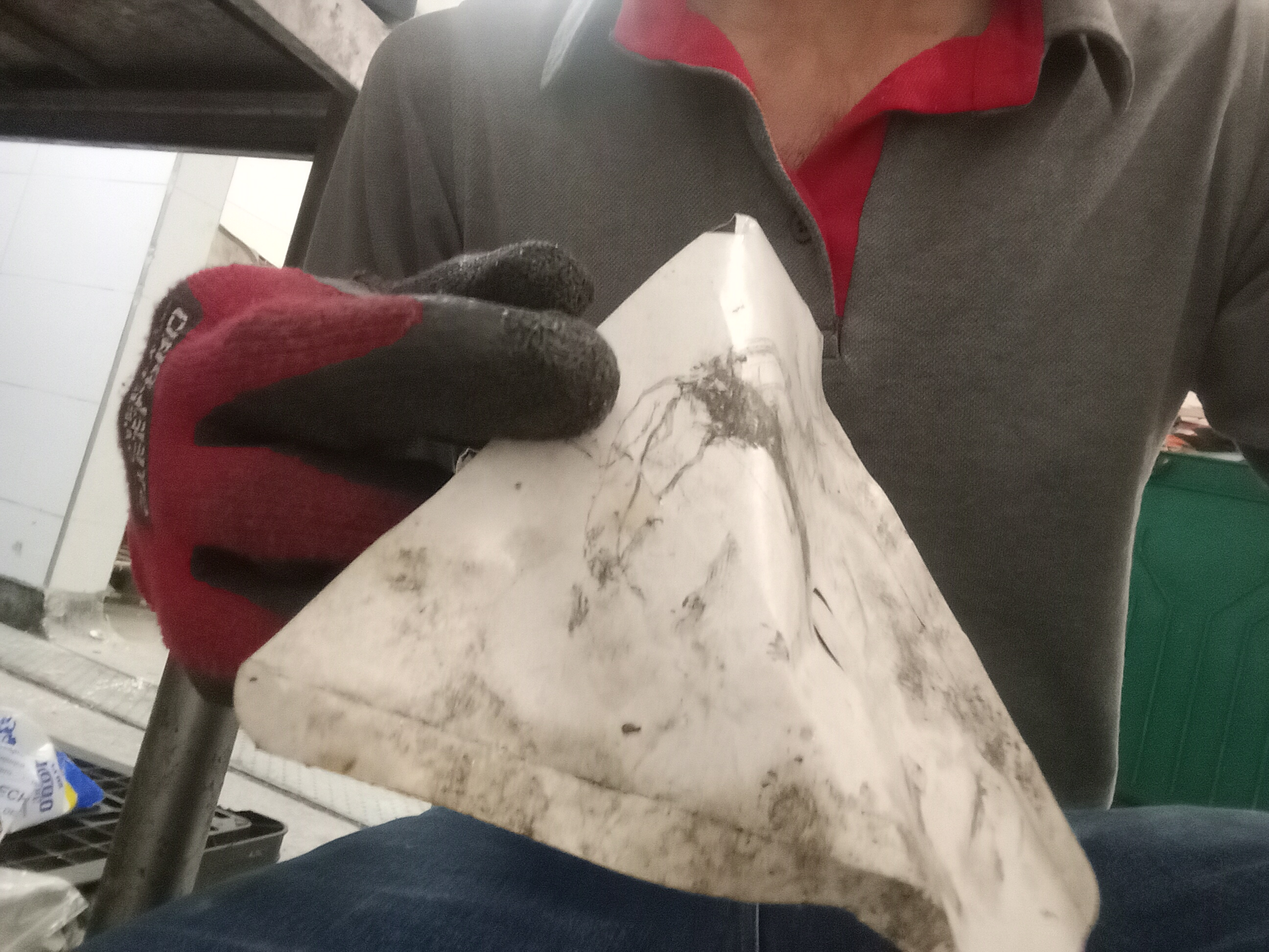Ordinario: (236, 215, 1102, 952)
